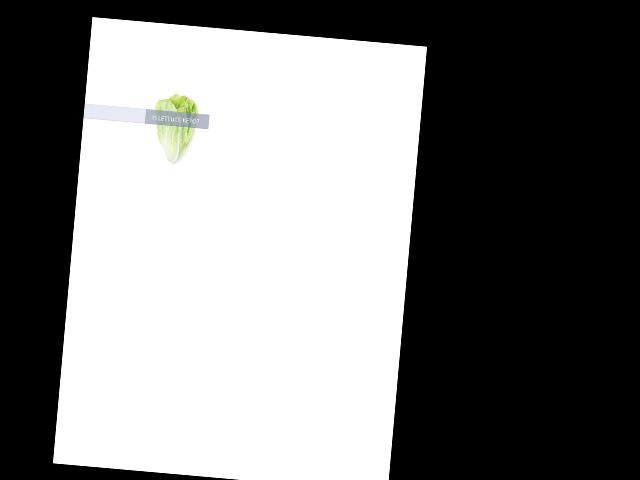lettuce: (148, 92, 202, 171)
